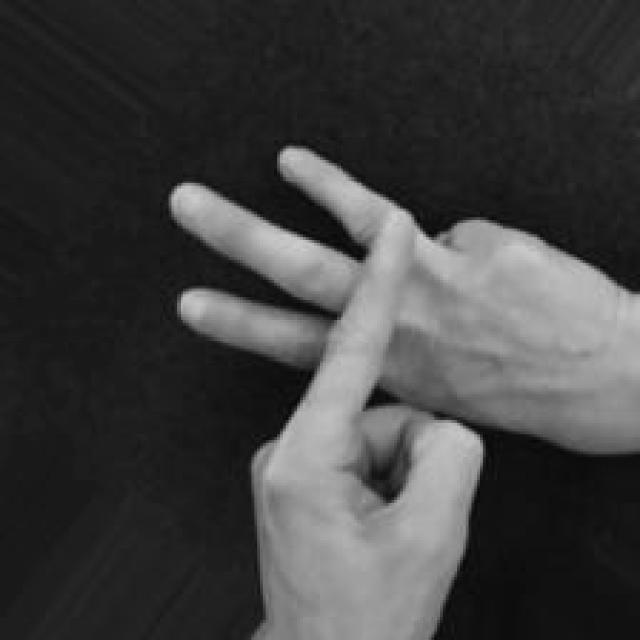E: (163, 138, 640, 640)
